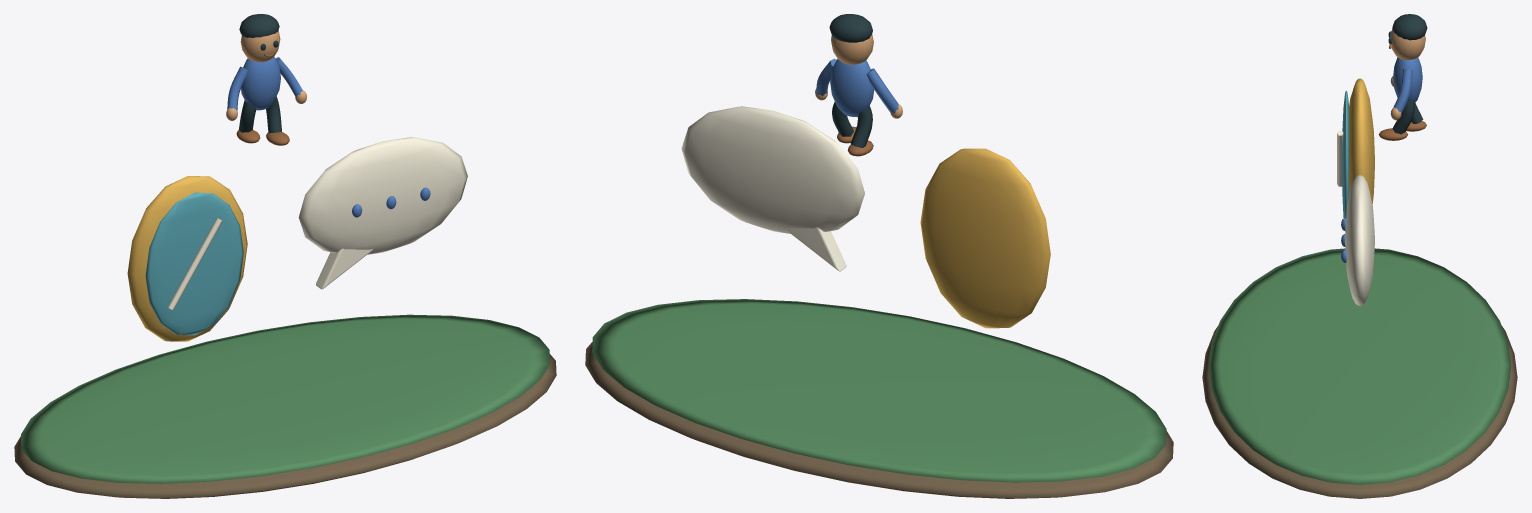
File: complete-third-facing-talk.glb
The picture shows the model from 3 angles, left to right: view 1: azimuth 30°, elevation 25°; view 2: azimuth 150°, elevation 25°; view 3: azimuth 270°, elevation 25°; orthographic projection. The views are drawn at different scales.
Visible parts, largest first — view 1: complete-third-facing-talk_surface_01, complete-third-facing-talk_surface_04, complete-third-facing-talk_surface_03, complete-third-facing-talk_surface_00, complete-third-facing-talk_surface_02, complete-third-facing-talk_surface_05, complete-third-facing-talk_surface_07, complete-third-facing-talk_surface_06; view 2: complete-third-facing-talk_surface_01, complete-third-facing-talk_surface_04, complete-third-facing-talk_surface_02, complete-third-facing-talk_surface_00, complete-third-facing-talk_surface_05, complete-third-facing-talk_surface_07, complete-third-facing-talk_surface_06; view 3: complete-third-facing-talk_surface_01, complete-third-facing-talk_surface_00, complete-third-facing-talk_surface_04, complete-third-facing-talk_surface_02, complete-third-facing-talk_surface_05, complete-third-facing-talk_surface_07, complete-third-facing-talk_surface_06, complete-third-facing-talk_surface_03, complete-third-facing-talk_surface_08.
Boxes of the visible parts, x1,y1,x2,y2 form: complete-third-facing-talk_surface_01: (21,314,549,483); complete-third-facing-talk_surface_04: (168,137,467,310); complete-third-facing-talk_surface_03: (145,192,243,335); complete-third-facing-talk_surface_00: (14,354,556,498); complete-third-facing-talk_surface_02: (127,176,247,341); complete-third-facing-talk_surface_05: (227,57,430,217); complete-third-facing-talk_surface_07: (239,14,281,133); complete-third-facing-talk_surface_06: (226,30,306,120); complete-third-facing-talk_surface_01: (592,299,1166,482); complete-third-facing-talk_surface_04: (681,106,864,271); complete-third-facing-talk_surface_02: (920,148,1050,328); complete-third-facing-talk_surface_00: (585,342,1173,498); complete-third-facing-talk_surface_05: (816,58,898,116); complete-third-facing-talk_surface_07: (829,14,872,147); complete-third-facing-talk_surface_06: (815,34,902,118); complete-third-facing-talk_surface_01: (1208,248,1511,484); complete-third-facing-talk_surface_00: (1202,326,1517,498); complete-third-facing-talk_surface_04: (1337,130,1374,305); complete-third-facing-talk_surface_02: (1349,78,1374,203); complete-third-facing-talk_surface_05: (1341,57,1422,262); complete-third-facing-talk_surface_07: (1388,14,1427,134); complete-third-facing-talk_surface_06: (1390,29,1425,120); complete-third-facing-talk_surface_03: (1342,90,1349,231); complete-third-facing-talk_surface_08: (1378,44,1426,140).
Size of the model in its own units: 4.56 by 3.29 by 2.5.
